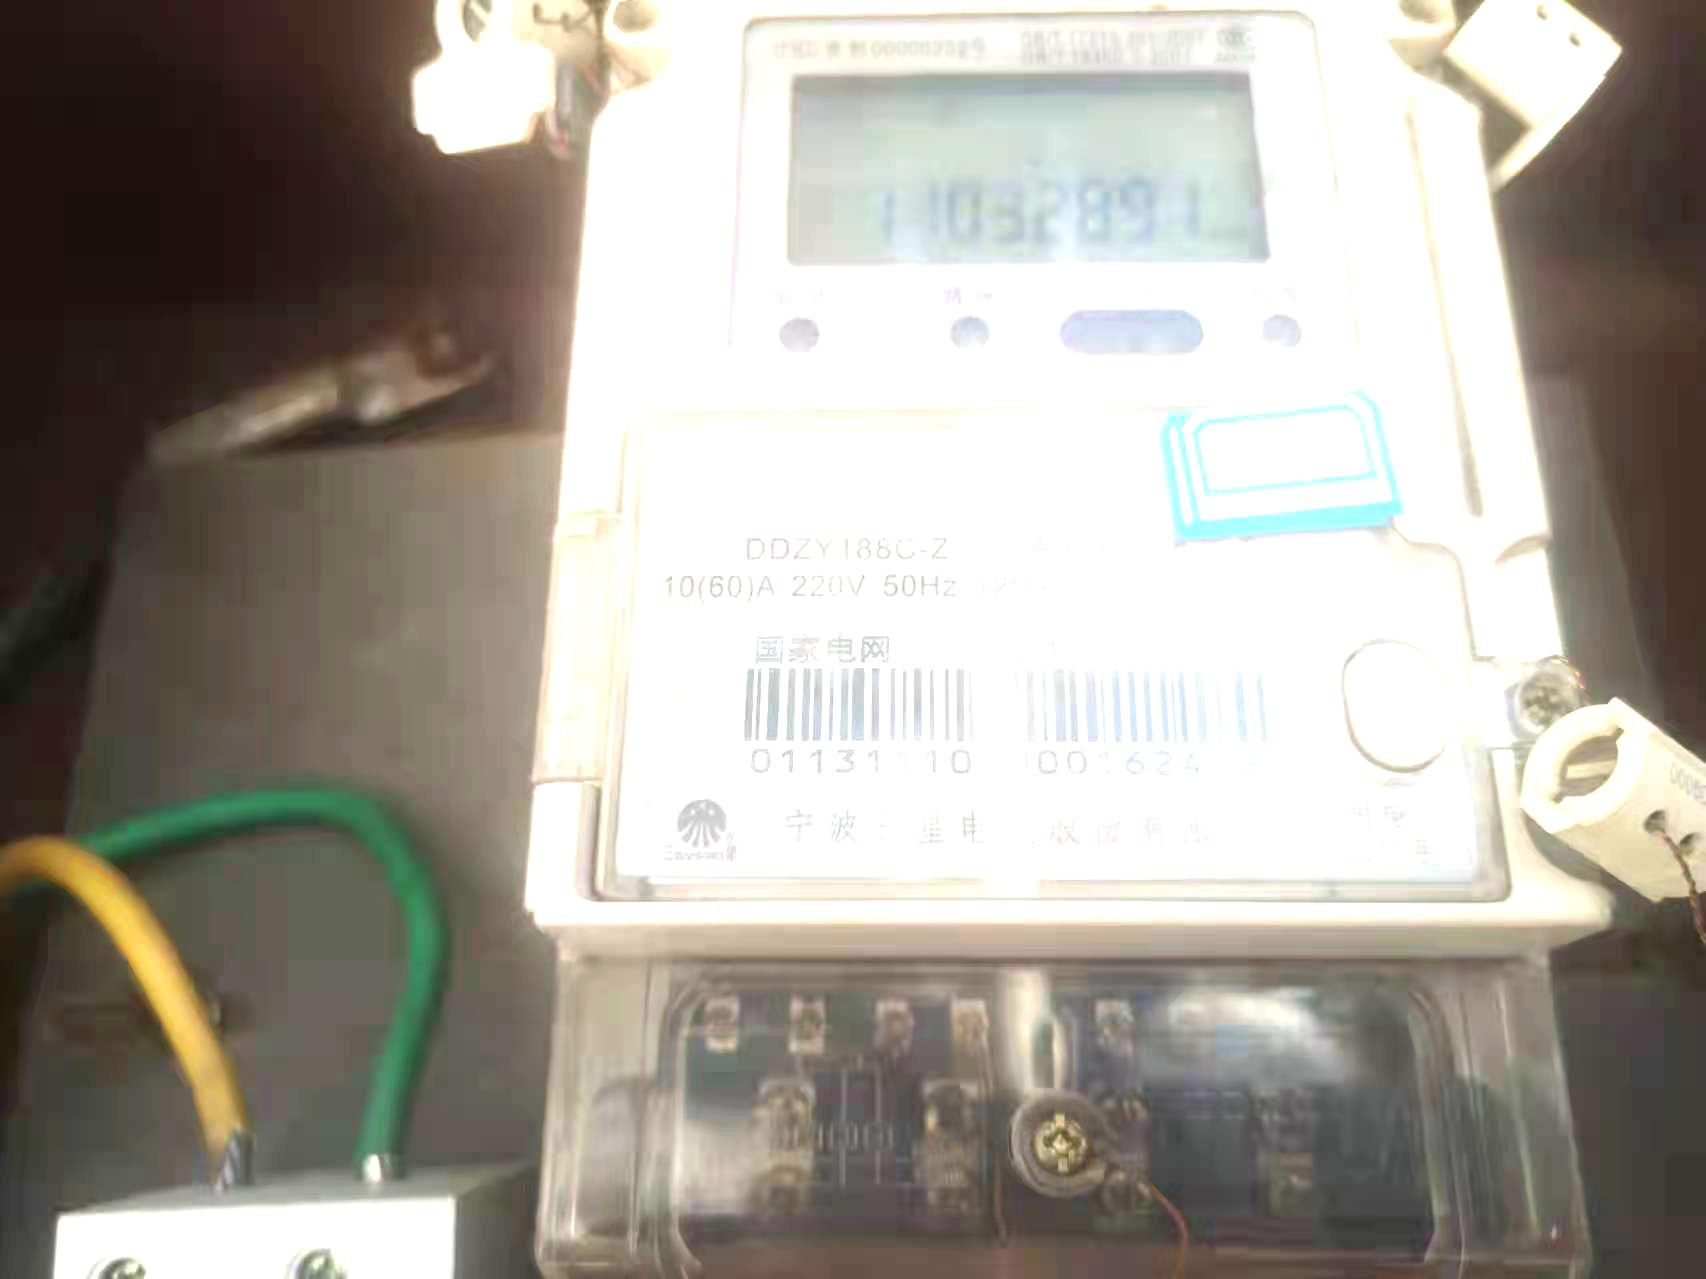digital: (523, 1, 1611, 918)
